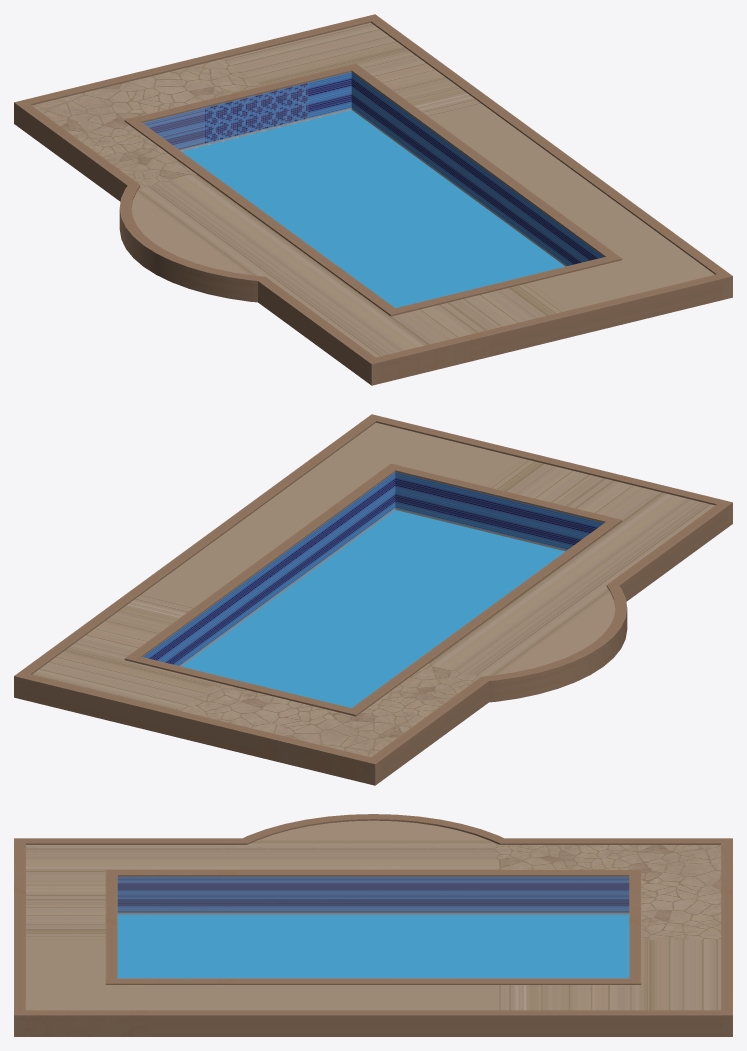
Rendered from objects_un_t03pool01.gltf.
3 views of the same model, one above another, from view 1: azimuth 30°, elevation 25°; view 2: azimuth 150°, elevation 25°; view 3: azimuth 270°, elevation 25° (orthographic).
Parts seen in each view (by area): view 1: objects_un_t03pool01, nomerge_objects_un_t03pool01_mesh1_shape:objects_un_t03pool0; view 2: objects_un_t03pool01, nomerge_objects_un_t03pool01_mesh1_shape:objects_un_t03pool0; view 3: objects_un_t03pool01, nomerge_objects_un_t03pool01_mesh1_shape:objects_un_t03pool0.
Boxes of the visible parts, bbox=[...] form: objects_un_t03pool01: bbox=[14, 14, 732, 385]; nomerge_objects_un_t03pool01_mesh1_shape:objects_un_t03pool0: bbox=[181, 110, 565, 307]; objects_un_t03pool01: bbox=[14, 414, 732, 785]; nomerge_objects_un_t03pool01_mesh1_shape:objects_un_t03pool0: bbox=[181, 510, 565, 707]; objects_un_t03pool01: bbox=[14, 814, 732, 1036]; nomerge_objects_un_t03pool01_mesh1_shape:objects_un_t03pool0: bbox=[117, 914, 629, 978].
Size of what is drawn, in the model's own units: 15.96 by 1.47 by 24.09.
Materials: 3 (3 with a texture image).
